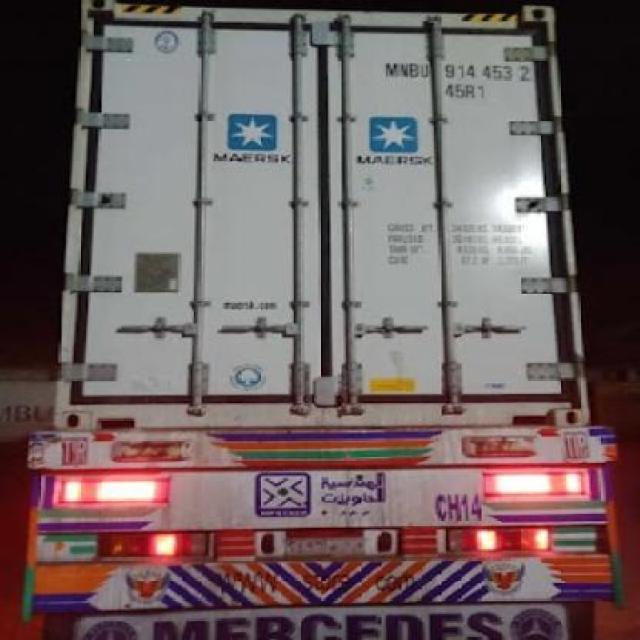ISO: (446, 82, 488, 100)
container_number: (377, 62, 530, 81)
